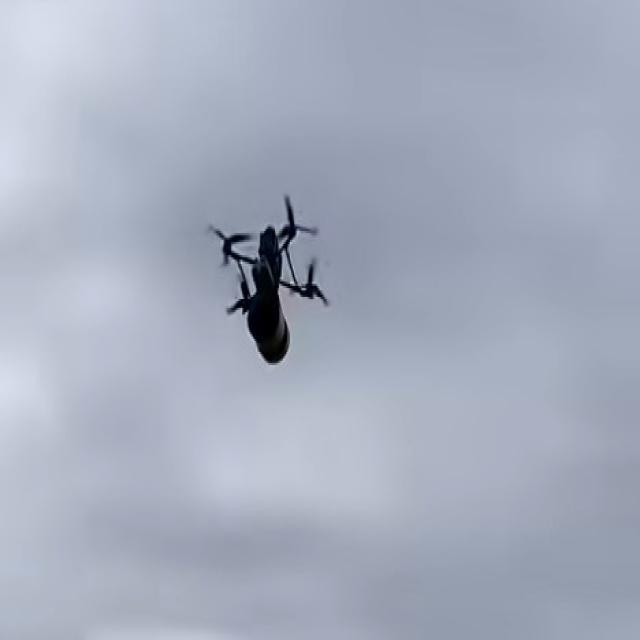drone: (203, 188, 334, 372)
